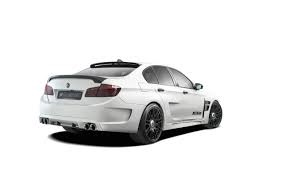bmw: (24, 55, 234, 146)
